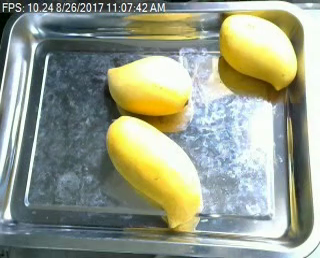Mango: (104, 113, 212, 228), (215, 11, 299, 96), (102, 52, 192, 116)
